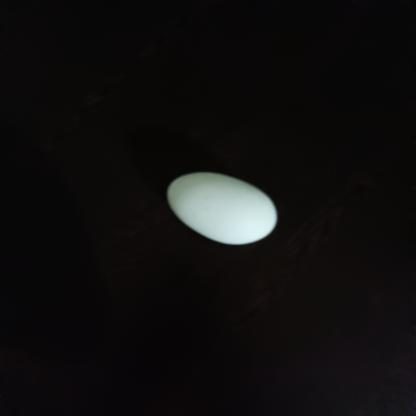egg: (158, 167, 295, 254)
